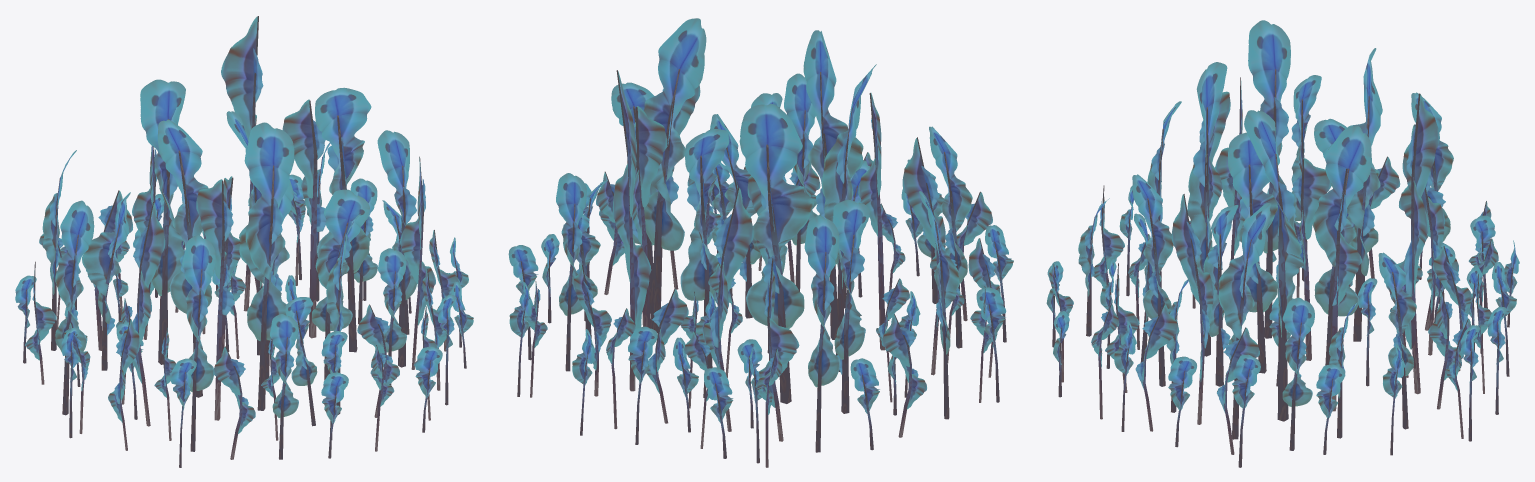
Rendered from blue_mamba_5_fix_scaled.fbx.
The picture shows the model from 3 angles, left to right: view 1: azimuth 30°, elevation 25°; view 2: azimuth 150°, elevation 25°; view 3: azimuth 270°, elevation 25°; orthographic projection. The views are drawn at different scales.
Parts seen in each view (by area): view 1: blue_mamba_5_LOD0; view 2: blue_mamba_5_LOD0; view 3: blue_mamba_5_LOD0.
Boxes of the visible parts, left/top/right/bottom form: blue_mamba_5_LOD0: left=15, top=16, right=473, bottom=467; blue_mamba_5_LOD0: left=508, top=18, right=1013, bottom=467; blue_mamba_5_LOD0: left=1046, top=20, right=1519, bottom=467.
Size of what is drawn, in the model's own units: 531 by 388 by 516.
